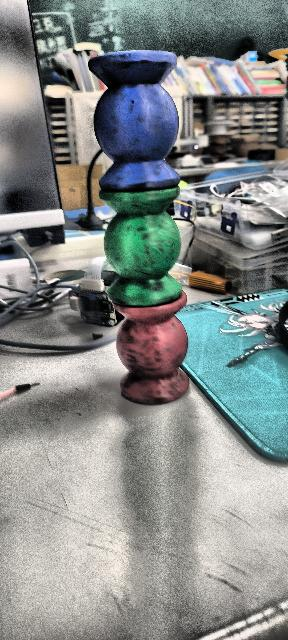blue: (88, 50, 180, 190)
green: (102, 184, 181, 309)
red: (108, 292, 190, 402)
